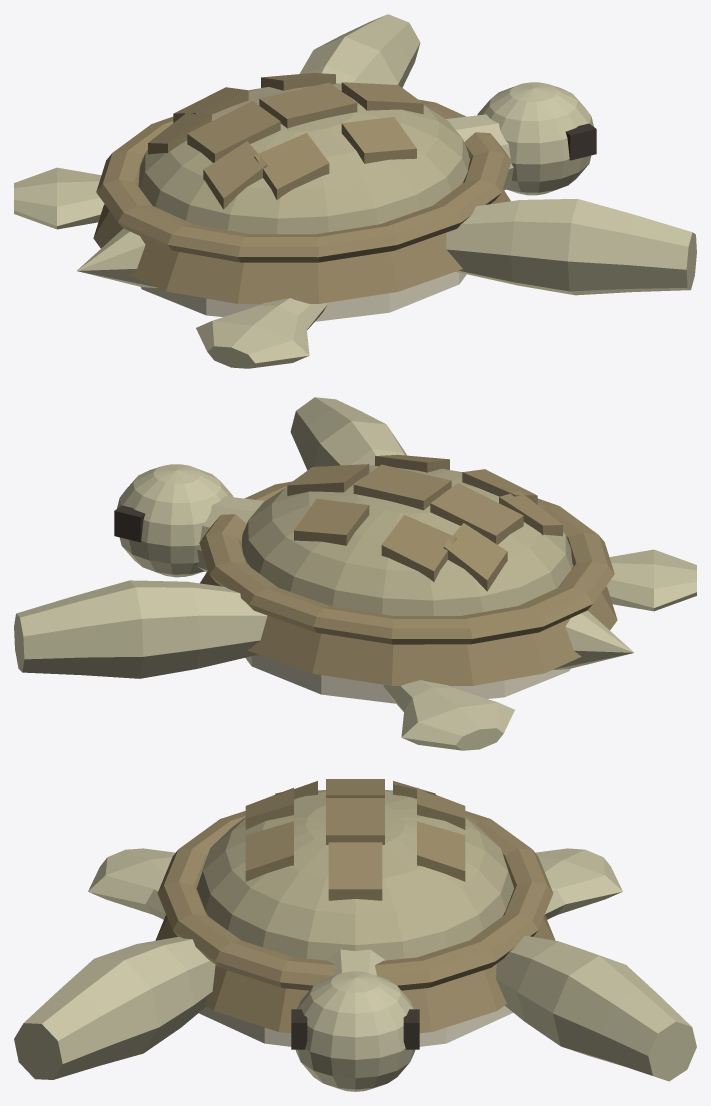
The model's file is 36-Fauna_tortuga_marina.glb.
The picture shows the model from 3 angles, top to bottom: view 1: azimuth 30°, elevation 25°; view 2: azimuth 150°, elevation 25°; view 3: azimuth 270°, elevation 25°; orthographic projection. The views are drawn at different scales.
Visible parts, largest first — view 1: SM_Tortuga_M_Tortuga_Escudos, SM_Tortuga_M_Tortuga_Piel, SM_Tortuga_M_Tortuga_Caparazon, SM_Tortuga_M_Tortuga_Plastron, SM_Tortuga_M_Tortuga_Ojos; view 2: SM_Tortuga_M_Tortuga_Escudos, SM_Tortuga_M_Tortuga_Piel, SM_Tortuga_M_Tortuga_Caparazon, SM_Tortuga_M_Tortuga_Plastron, SM_Tortuga_M_Tortuga_Ojos; view 3: SM_Tortuga_M_Tortuga_Piel, SM_Tortuga_M_Tortuga_Escudos, SM_Tortuga_M_Tortuga_Caparazon, SM_Tortuga_M_Tortuga_Plastron, SM_Tortuga_M_Tortuga_Ojos.
Part boxes in pixels (<box>): SM_Tortuga_M_Tortuga_Escudos: <box>93,73,511,303</box>; SM_Tortuga_M_Tortuga_Piel: <box>14,14,696,368</box>; SM_Tortuga_M_Tortuga_Caparazon: <box>138,83,468,234</box>; SM_Tortuga_M_Tortuga_Plastron: <box>140,271,466,321</box>; SM_Tortuga_M_Tortuga_Ojos: <box>565,123,596,160</box>; SM_Tortuga_M_Tortuga_Escudos: <box>199,454,617,685</box>; SM_Tortuga_M_Tortuga_Piel: <box>14,397,696,750</box>; SM_Tortuga_M_Tortuga_Caparazon: <box>242,465,572,615</box>; SM_Tortuga_M_Tortuga_Plastron: <box>245,654,570,703</box>; SM_Tortuga_M_Tortuga_Ojos: <box>114,505,145,542</box>; SM_Tortuga_M_Tortuga_Piel: <box>14,848,696,1091</box>; SM_Tortuga_M_Tortuga_Escudos: <box>155,779,555,1033</box>; SM_Tortuga_M_Tortuga_Caparazon: <box>197,790,513,960</box>; SM_Tortuga_M_Tortuga_Plastron: <box>199,1005,512,1046</box>; SM_Tortuga_M_Tortuga_Ojos: <box>291,1009,419,1049</box>.
Bounding box in the file's own units: 7.77 × 2.17 × 8.48.
